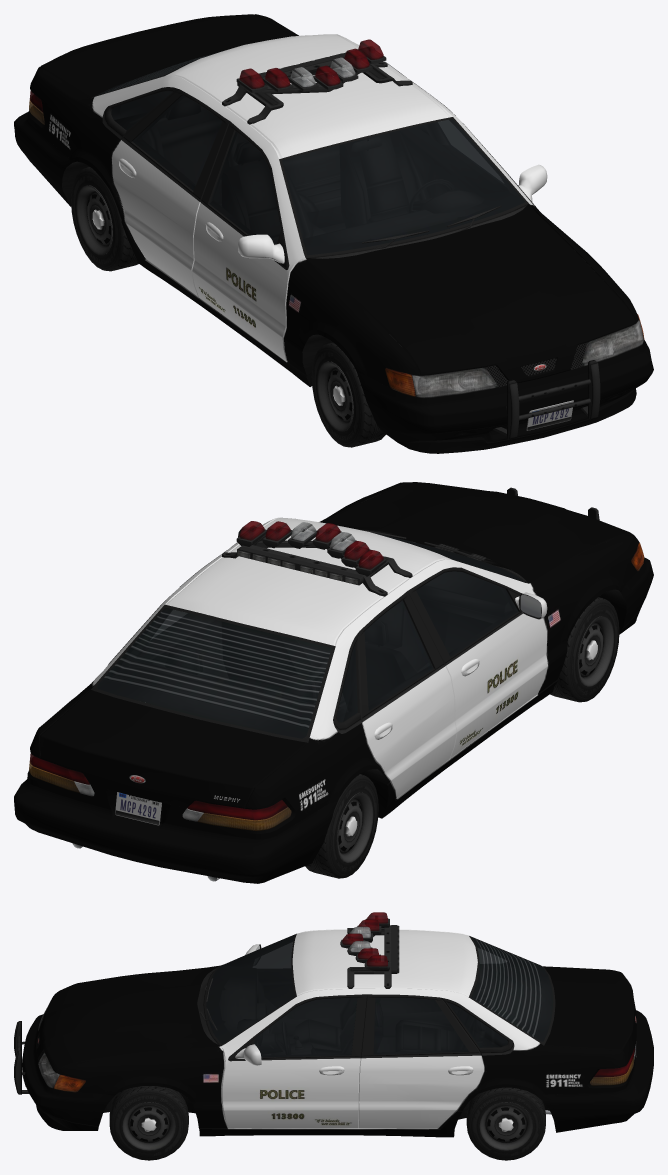
The model's file is murphy-92-cop-cruiser-low-poly-model-13de92.glb.
3 views of the same model, one above another, from view 1: azimuth 30°, elevation 25°; view 2: azimuth 150°, elevation 25°; view 3: azimuth 270°, elevation 25° (orthographic). The views are drawn at different scales.
Parts seen in each view (by area): view 1: body, wheel-front-right, wheel-back-right; view 2: body, wheel-back-right, wheel-front-right; view 3: body, wheel-back-left, wheel-front-left.
Part boxes in pixels (bbox=[...]): body: bbox=[14, 14, 653, 453]; wheel-front-right: bbox=[311, 342, 385, 447]; wheel-back-right: bbox=[31, 94, 138, 271]; body: bbox=[14, 482, 653, 883]; wheel-back-right: bbox=[188, 774, 378, 878]; wheel-front-right: bbox=[550, 597, 619, 702]; body: bbox=[14, 912, 653, 1137]; wheel-back-left: bbox=[466, 1051, 633, 1160]; wheel-front-left: bbox=[109, 1086, 188, 1160].
Size of the model in its own units: 2.05 by 1.55 by 5.01.
8 materials, 8 textured.
